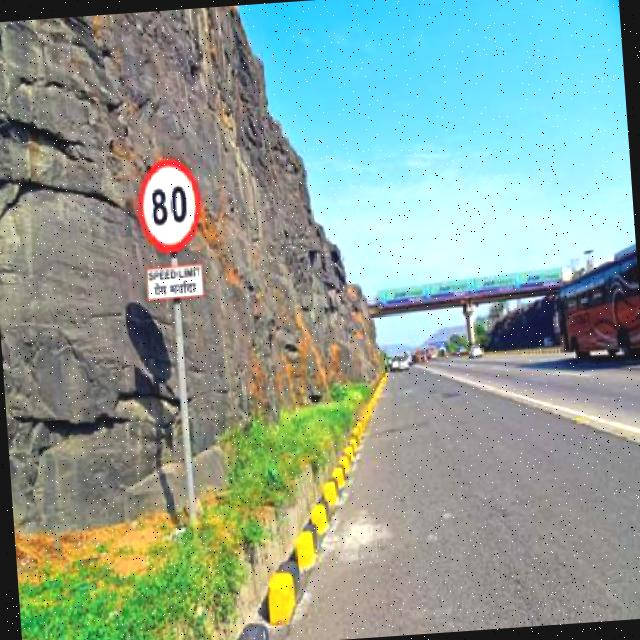Ograniczenie predkosci do 80: (130, 154, 209, 260)
